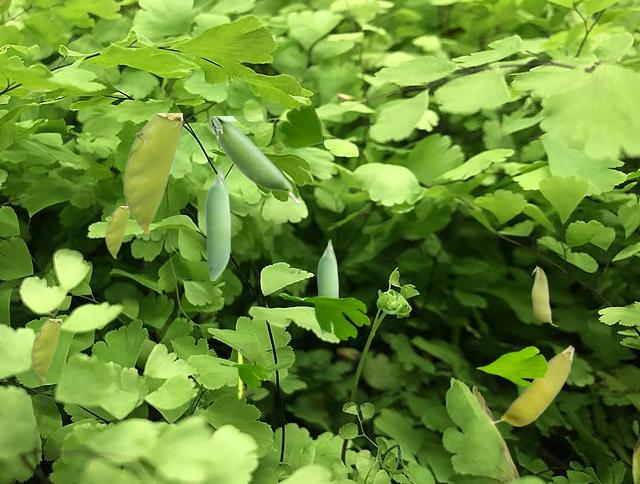pea: (211, 116, 300, 201), (123, 113, 181, 232), (489, 345, 573, 425), (205, 165, 229, 279), (317, 239, 337, 333), (31, 319, 60, 379), (531, 265, 557, 325), (105, 206, 129, 257), (238, 349, 244, 400)
